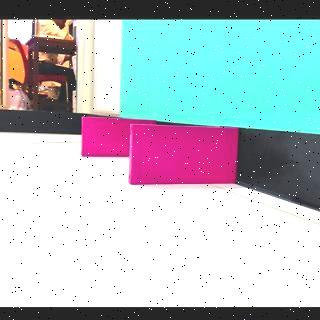xparking: (132, 122, 236, 182), (81, 116, 128, 158)
